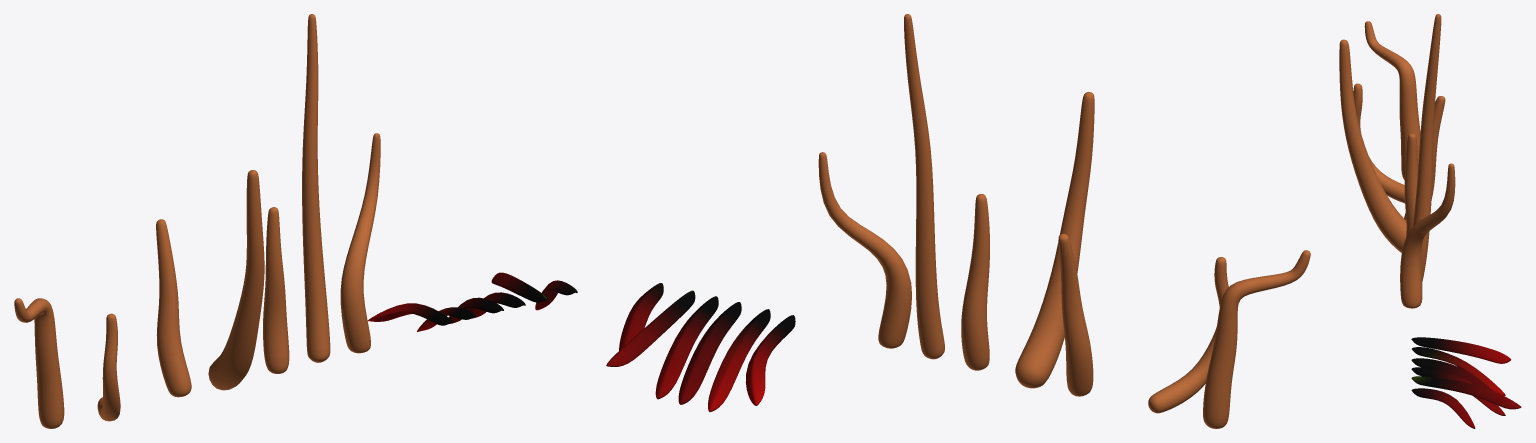
Rendered from KM_PalmTrees01.fbx.
3 renders of one model, left to right at view 1: azimuth 30°, elevation 25°; view 2: azimuth 150°, elevation 25°; view 3: azimuth 270°, elevation 25°, orthographic. The views are drawn at different scales.
Parts seen in each view (by area): view 1: Cocotier03, Cocotier01, Cocotier05, Cocotier04, Cocotier07, Cocotier02, Cocotier06, PalmTree, PalmTree.002, PalmTree.001; view 2: Cocotier01, Cocotier03, Cocotier07, Cocotier05, Cocotier02, Cocotier04, Cocotier06, PalmTree.004, PalmTree.005, PalmTree.003, PalmTree.002, PalmTree (+1 smaller); view 3: Cocotier01, Cocotier03, Cocotier05, Cocotier07, PalmTree.002, PalmTree, Cocotier02, Cocotier06, PalmTree.003, PalmTree.001, PalmTree.004, PalmTree.005 (+1 smaller).
Boxes of the visible parts, x1,y1,x2,y2 form: Cocotier03: (302,14,330,362); Cocotier01: (208,170,264,390); Cocotier05: (340,133,380,353); Cocotier04: (156,219,191,397); Cocotier07: (14,298,64,428); Cocotier02: (263,207,289,373); Cocotier06: (97,313,120,421); PalmTree: (368,303,452,325); PalmTree.002: (491,272,547,302); PalmTree.001: (535,280,577,310); Cocotier01: (1015,92,1094,388); Cocotier03: (904,14,944,359); Cocotier07: (1203,250,1310,428); Cocotier05: (818,152,911,348); Cocotier02: (961,194,989,370); Cocotier04: (1058,233,1093,396); Cocotier06: (1148,257,1228,413); PalmTree.004: (678,302,741,404); PalmTree.005: (655,296,718,399); PalmTree.003: (708,309,770,411); PalmTree.002: (606,290,695,366); PalmTree: (745,315,795,405); Cocotier01: (1339,39,1406,252); Cocotier03: (1412,14,1441,282); Cocotier05: (1400,163,1455,308); Cocotier07: (1364,21,1420,179); PalmTree.002: (1411,376,1521,409); PalmTree: (1411,337,1511,363); Cocotier02: (1404,133,1418,237); Cocotier06: (1353,83,1404,203); PalmTree.003: (1412,347,1505,395); PalmTree.001: (1411,388,1475,428); PalmTree.004: (1411,358,1491,390); PalmTree.005: (1411,367,1505,415).
Size of the model in its own units: 17.69 by 10.85 by 5.58.
